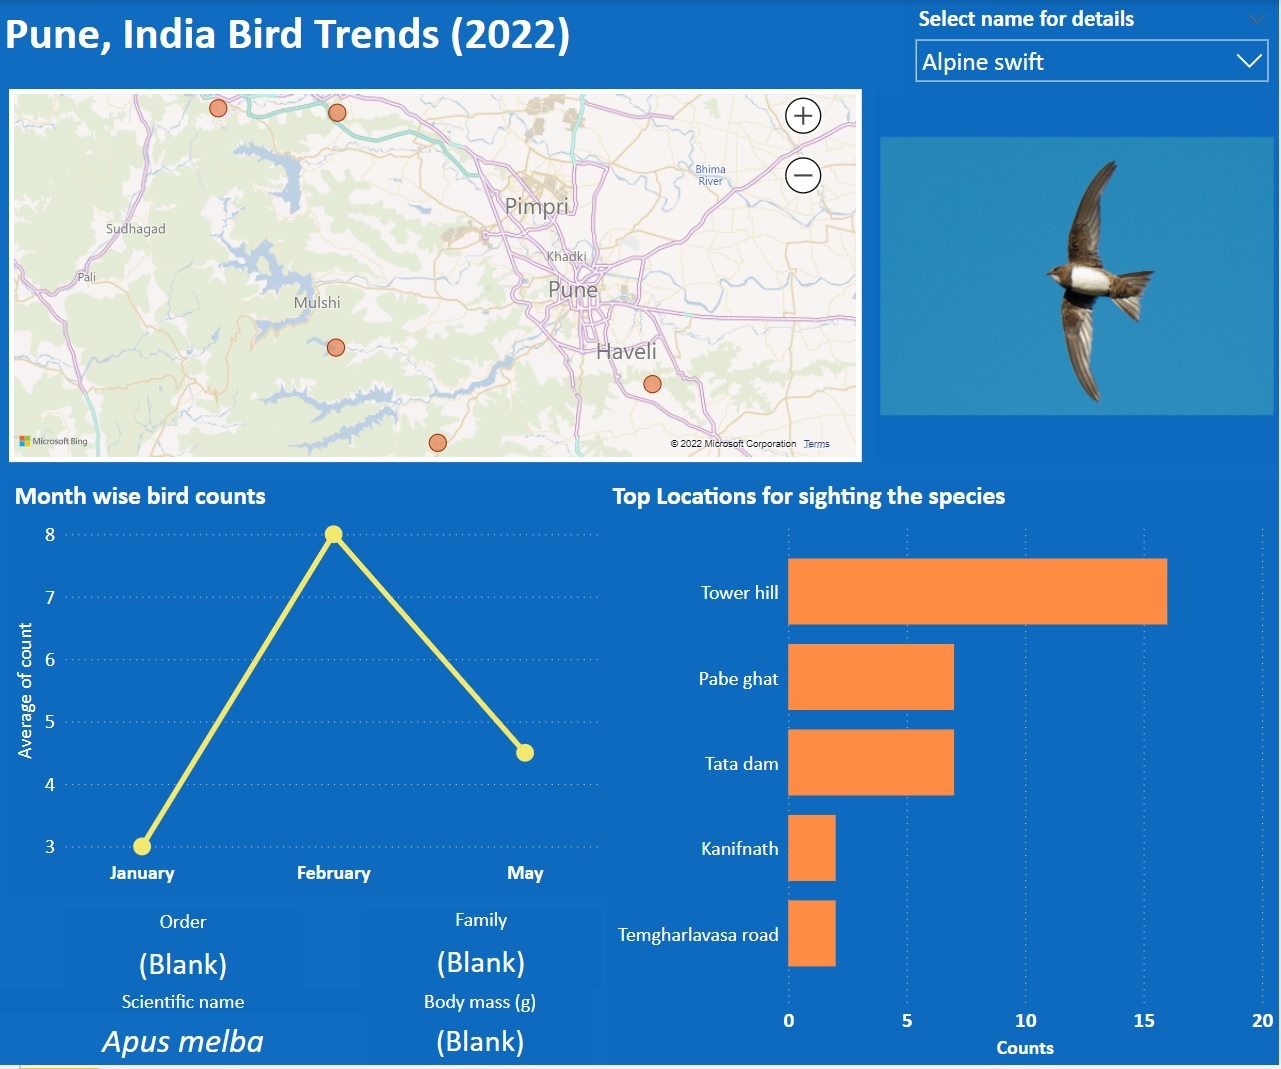

Layout of this report page (visuals, bound fields, positions):
{"tool":"powerbi","page":{"name":"Bird_report","canvas":[1200,1000],"ordinal":0},"visuals":[{"type":"textbox","box":[0,0,696.1,71.3],"z":0},{"type":"clusteredBarChart","title":"Top Locations for sighting the species","fields":{"Category":["public birds_data.locality"],"Y":["public birds_data.Locality_count"]},"box":[570.4,450.3,630.4,549.7],"z":1000},{"type":"map","title":"Locality map","fields":{"Y":["public birds_data.latitude"],"X":["public birds_data.longitude"]},"box":[10,85,800,350],"z":2000},{"type":"lineChart","title":"Month wise bird counts","fields":{"Category":["public birds_data.obs_date.Variation.Date Hierarchy.Month","public birds_data.obs_date.Variation.Date Hierarchy.Day"],"Y":["Avg(public birds_data.count)"]},"box":[9.4,450.3,561,390.2],"z":3000},{"type":"card","title":"Scientific name","fields":{"Values":["Min(public birds_data.scientific_name)"]},"box":[0,928.7,345.2,71.3],"z":4000},{"type":"slicer","fields":{"Values":["public birds_data.common_name"]},"box":[849.9,0,350.8,84.4],"z":5000},{"type":"card","title":"Family","fields":{"Values":["Min(public traits_data.BLFamilyLatin)"]},"box":[339.6,851.8,225.1,76.9],"z":6000},{"type":"card","title":"Order","fields":{"Values":["Min(public traits_data.IOCOrder)"]},"box":[60,853.7,225.1,76.9],"z":7000},{"type":"simpleImageEBC4593F96F1425FB3D84C5BF02B5075","fields":{"imageURL":["public url_data.url"]},"box":[821.8,84.4,379,350.8],"z":8000},{"type":"card","title":"Body mass (g)","fields":{"Values":["Sum(public traits_data.BodyMass-Value)"]},"box":[345.2,928.7,212,71.3],"z":9000}]}

Visuals, with their boxes in screenshot pixels (x1, y1, x2, y2), scaled from the page's 1200x1000 canvas onto the 1281x1069 screenshot:
textbox: [left=0, top=0, right=743, bottom=76]
"Top Locations for sighting the species" clusteredBarChart: [left=609, top=481, right=1280, bottom=1068]
"Locality map" map: [left=11, top=91, right=865, bottom=465]
"Month wise bird counts" lineChart: [left=10, top=481, right=609, bottom=898]
"Scientific name" card: [left=0, top=993, right=369, bottom=1068]
slicer - public birds_data.common_name: [left=907, top=0, right=1280, bottom=90]
"Family" card: [left=363, top=911, right=603, bottom=993]
"Order" card: [left=64, top=913, right=304, bottom=995]
simpleImageEBC4593F96F1425FB3D84C5BF02B5075 - public url_data.url: [left=877, top=90, right=1280, bottom=465]
"Body mass (g)" card: [left=369, top=993, right=595, bottom=1068]
